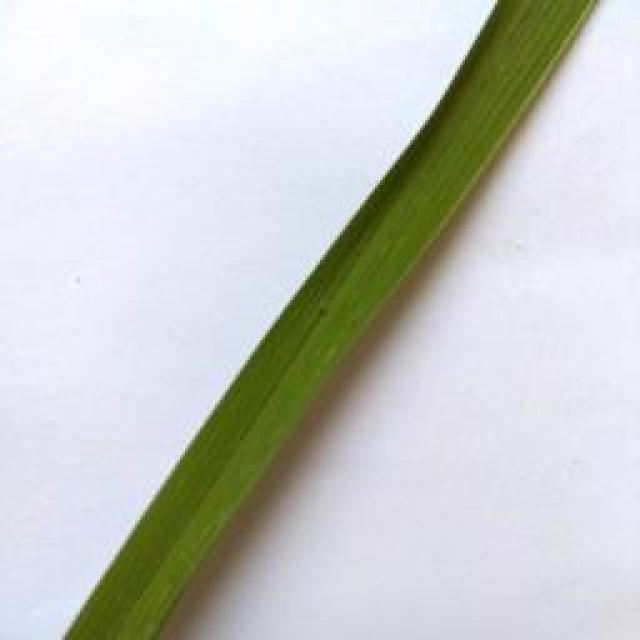Healthy-Plant: (74, 0, 592, 640)
